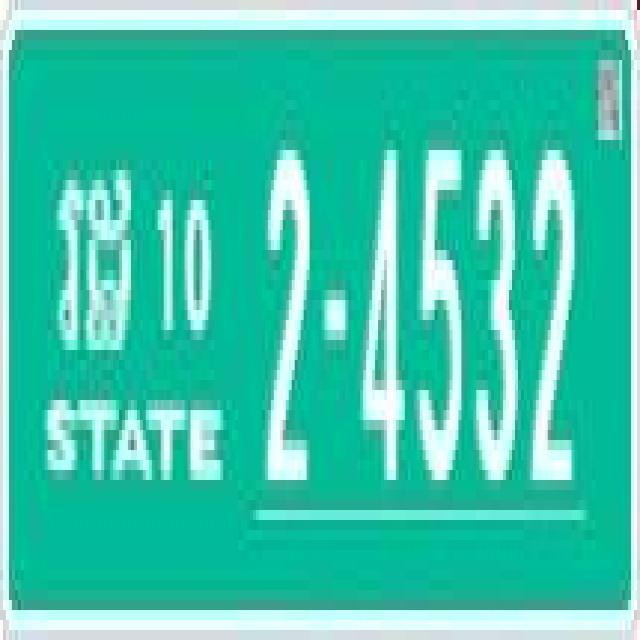State: (54, 150, 140, 371)
